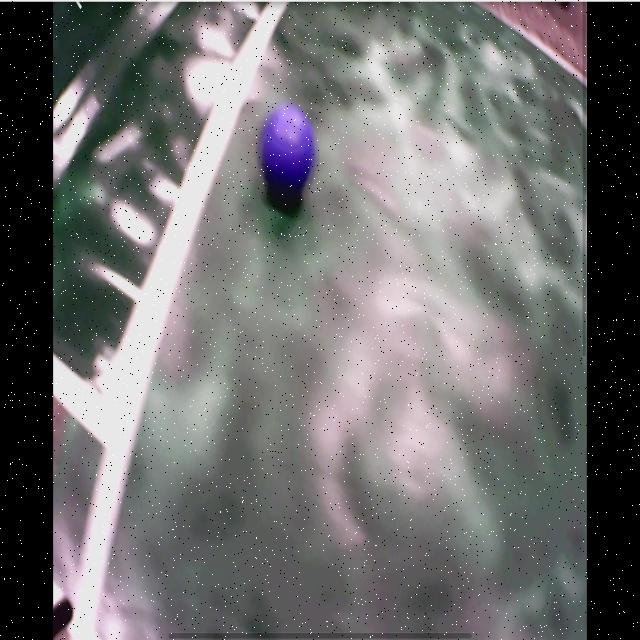ball: (261, 108, 314, 186)
